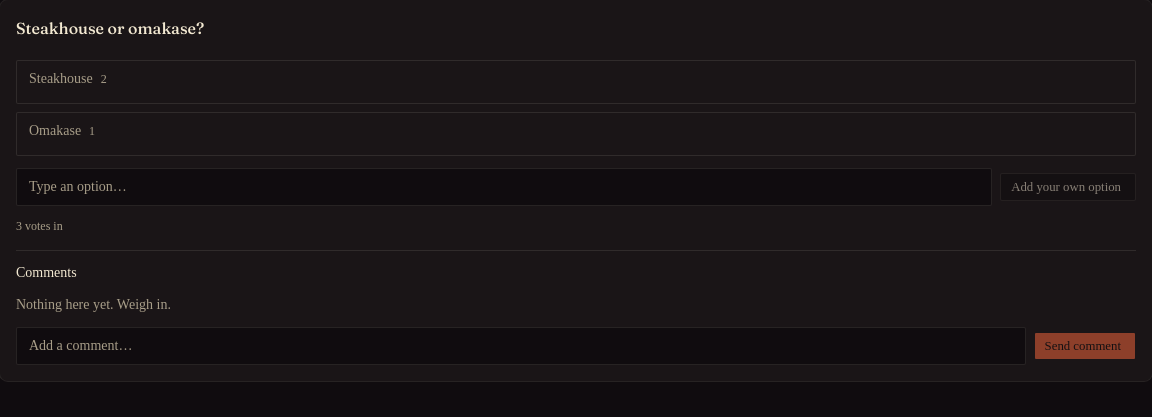
Test case: PollCard comment thread (#620) › shows the composer and posts a comment, folding it in optimistically
Type "Steakhouse has a private room" into the field with placeholder "Add a comment…" at [521, 346], box [16,327,1026,365]
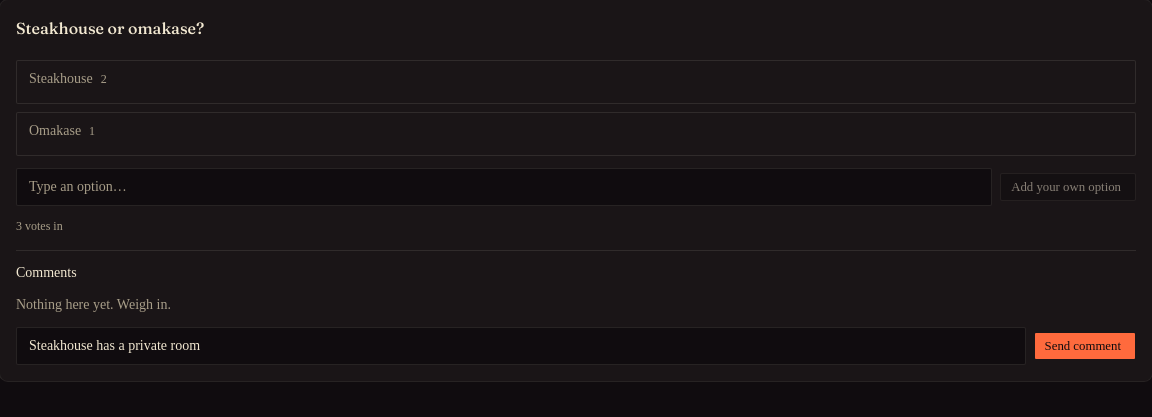
Click the button "Send comment" at [1085, 346], box [1034,332,1136,360]
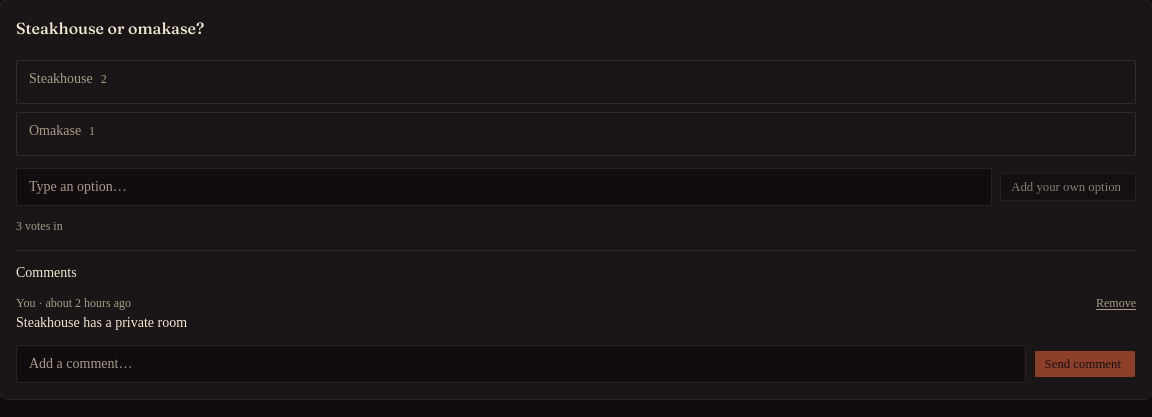
Expected: the text "Steakhouse has a private room" is shown, [16,315,187,330]
